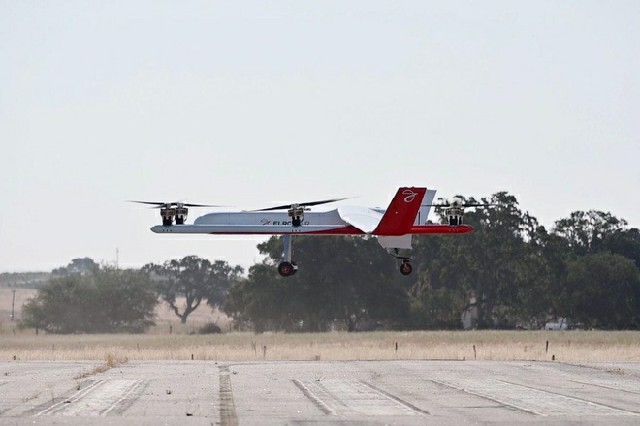maybay_khongnguoilai: (138, 188, 485, 281)
